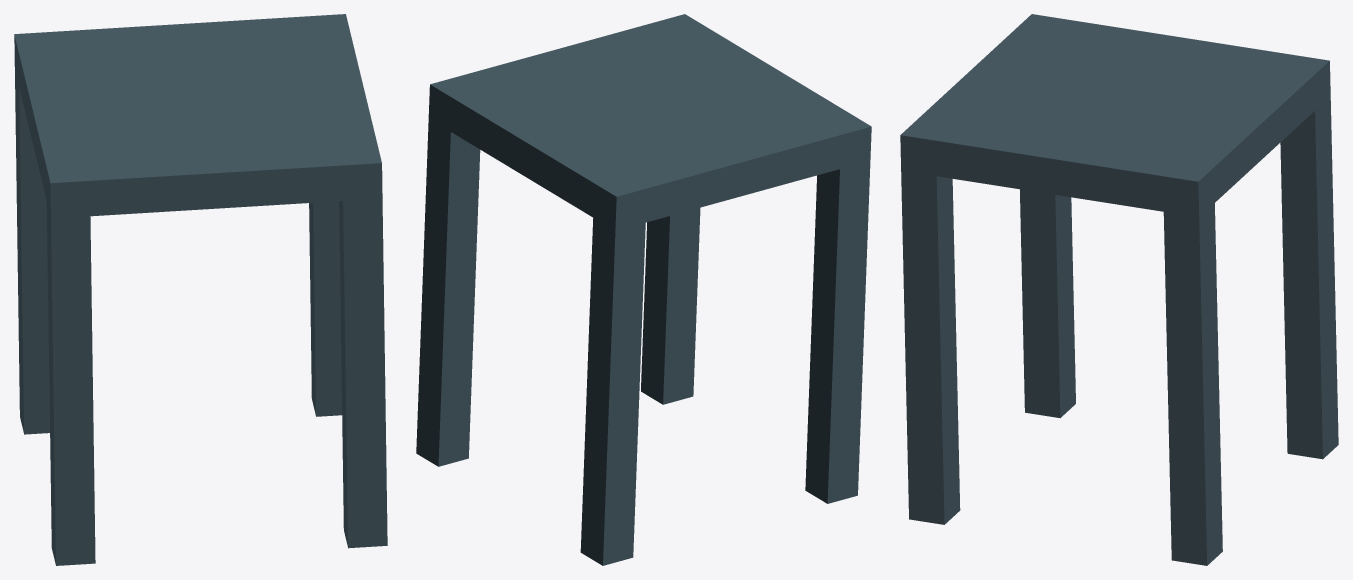
Rendered from table.fbx.
3 renders of one model, left to right at view 1: azimuth 30°, elevation 25°; view 2: azimuth 150°, elevation 25°; view 3: azimuth 270°, elevation 25°, orthographic. The views are drawn at different scales.
Parts seen in each view (by area): view 1: group_2078715909; view 2: group_2078715909; view 3: group_2078715909.
Part boxes in pixels (left/top/right/bottom): group_2078715909: left=14, top=14, right=387, bottom=565; group_2078715909: left=416, top=14, right=871, bottom=565; group_2078715909: left=900, top=14, right=1338, bottom=565.
Size of the model in its own units: 40.4 by 39.78 by 40.19.
